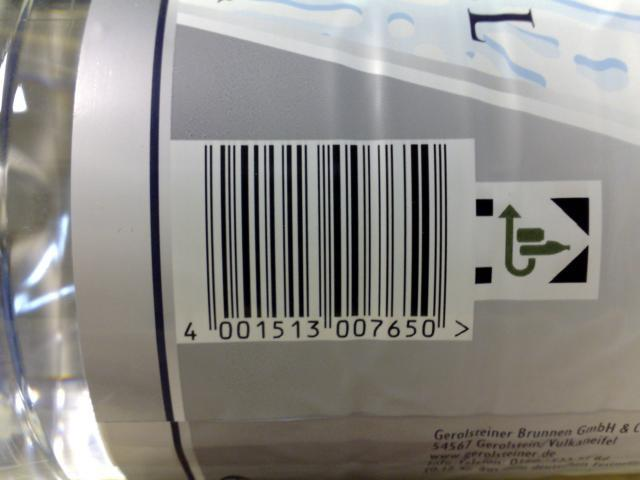Barcode: (177, 137, 454, 349)
